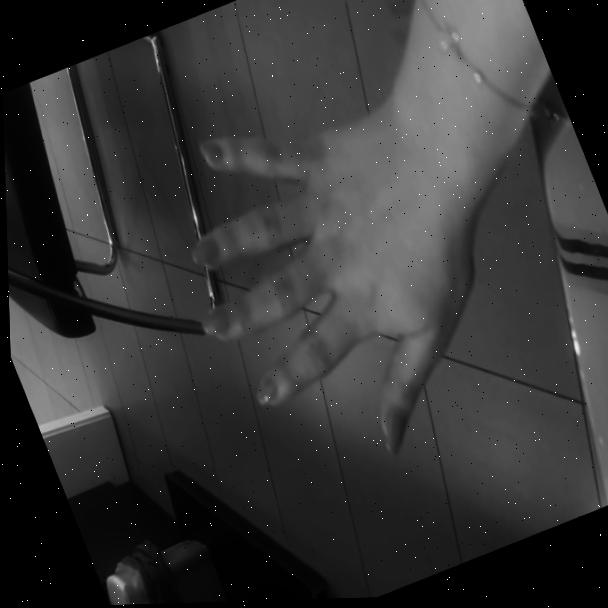five: (128, 46, 565, 513)
